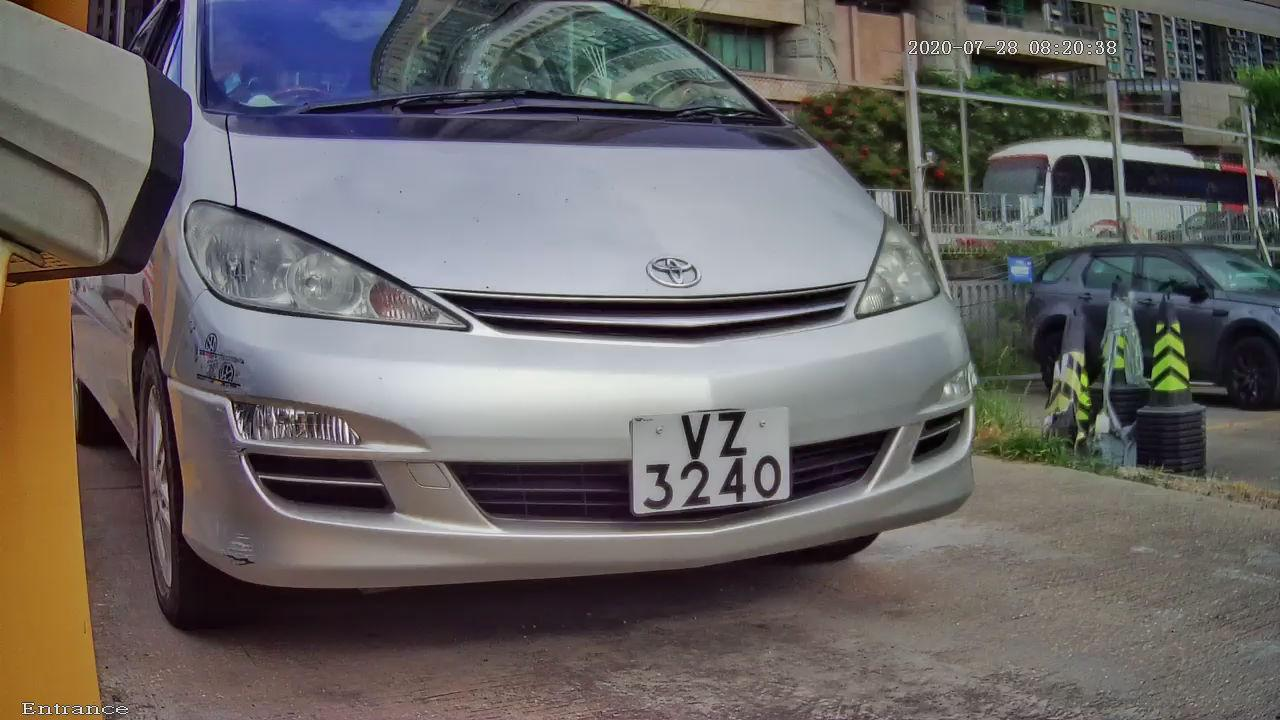privatecar: (63, 4, 1069, 640)
